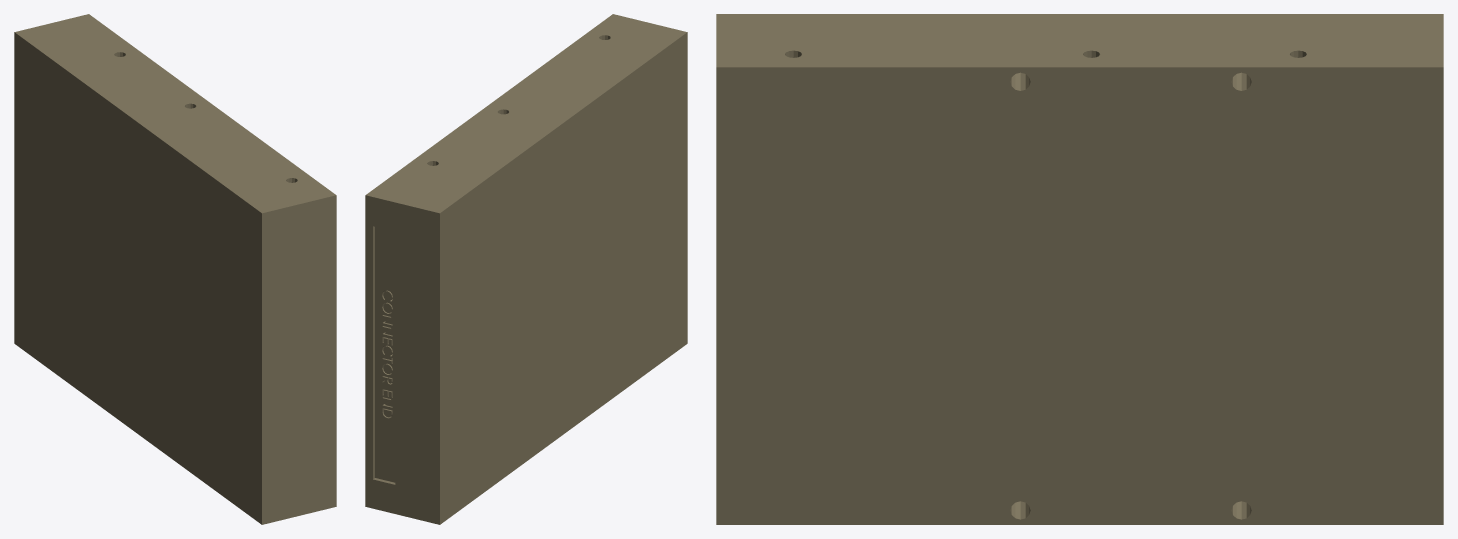
Rendered from HDD.glb.
The picture shows the model from 3 angles, left to right: view 1: azimuth 30°, elevation 25°; view 2: azimuth 150°, elevation 25°; view 3: azimuth 270°, elevation 25°; orthographic projection. The views are drawn at different scales.
Visible parts, largest first — view 1: HL15 Beast REV1 - HARD DRIVE - 3.5in HDD-8; view 2: HL15 Beast REV1 - HARD DRIVE - 3.5in HDD-8; view 3: HL15 Beast REV1 - HARD DRIVE - 3.5in HDD-8.
Boxes of the visible parts, bbox=[...] form: HL15 Beast REV1 - HARD DRIVE - 3.5in HDD-8: bbox=[14, 14, 336, 524]; HL15 Beast REV1 - HARD DRIVE - 3.5in HDD-8: bbox=[365, 14, 687, 524]; HL15 Beast REV1 - HARD DRIVE - 3.5in HDD-8: bbox=[716, 14, 1443, 524].
Size of the model in its own units: 0.0254 by 0.1016 by 0.1463.
